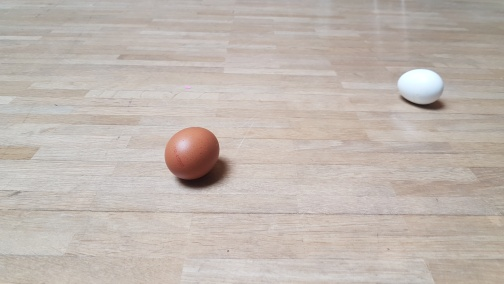egg: (162, 126, 222, 180), (395, 67, 445, 107)
